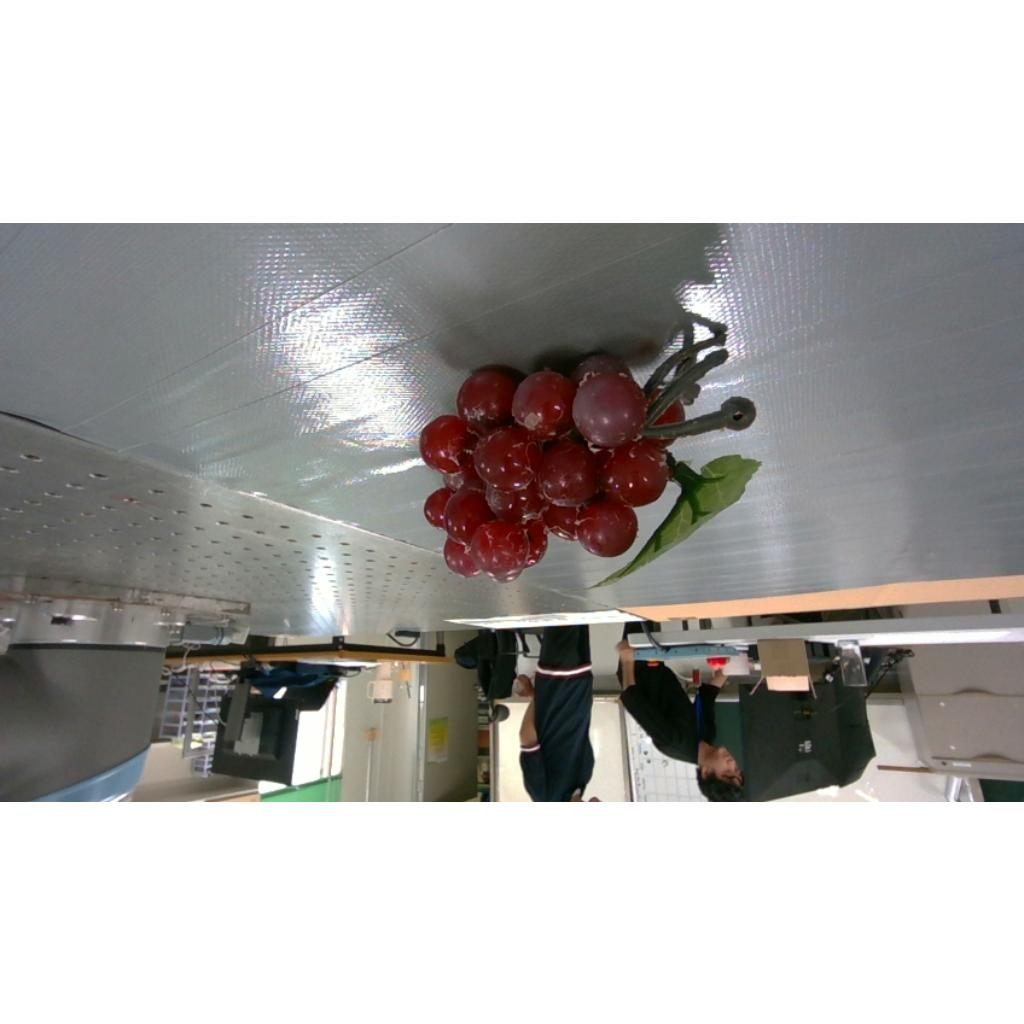grape: (420, 312, 760, 585)
